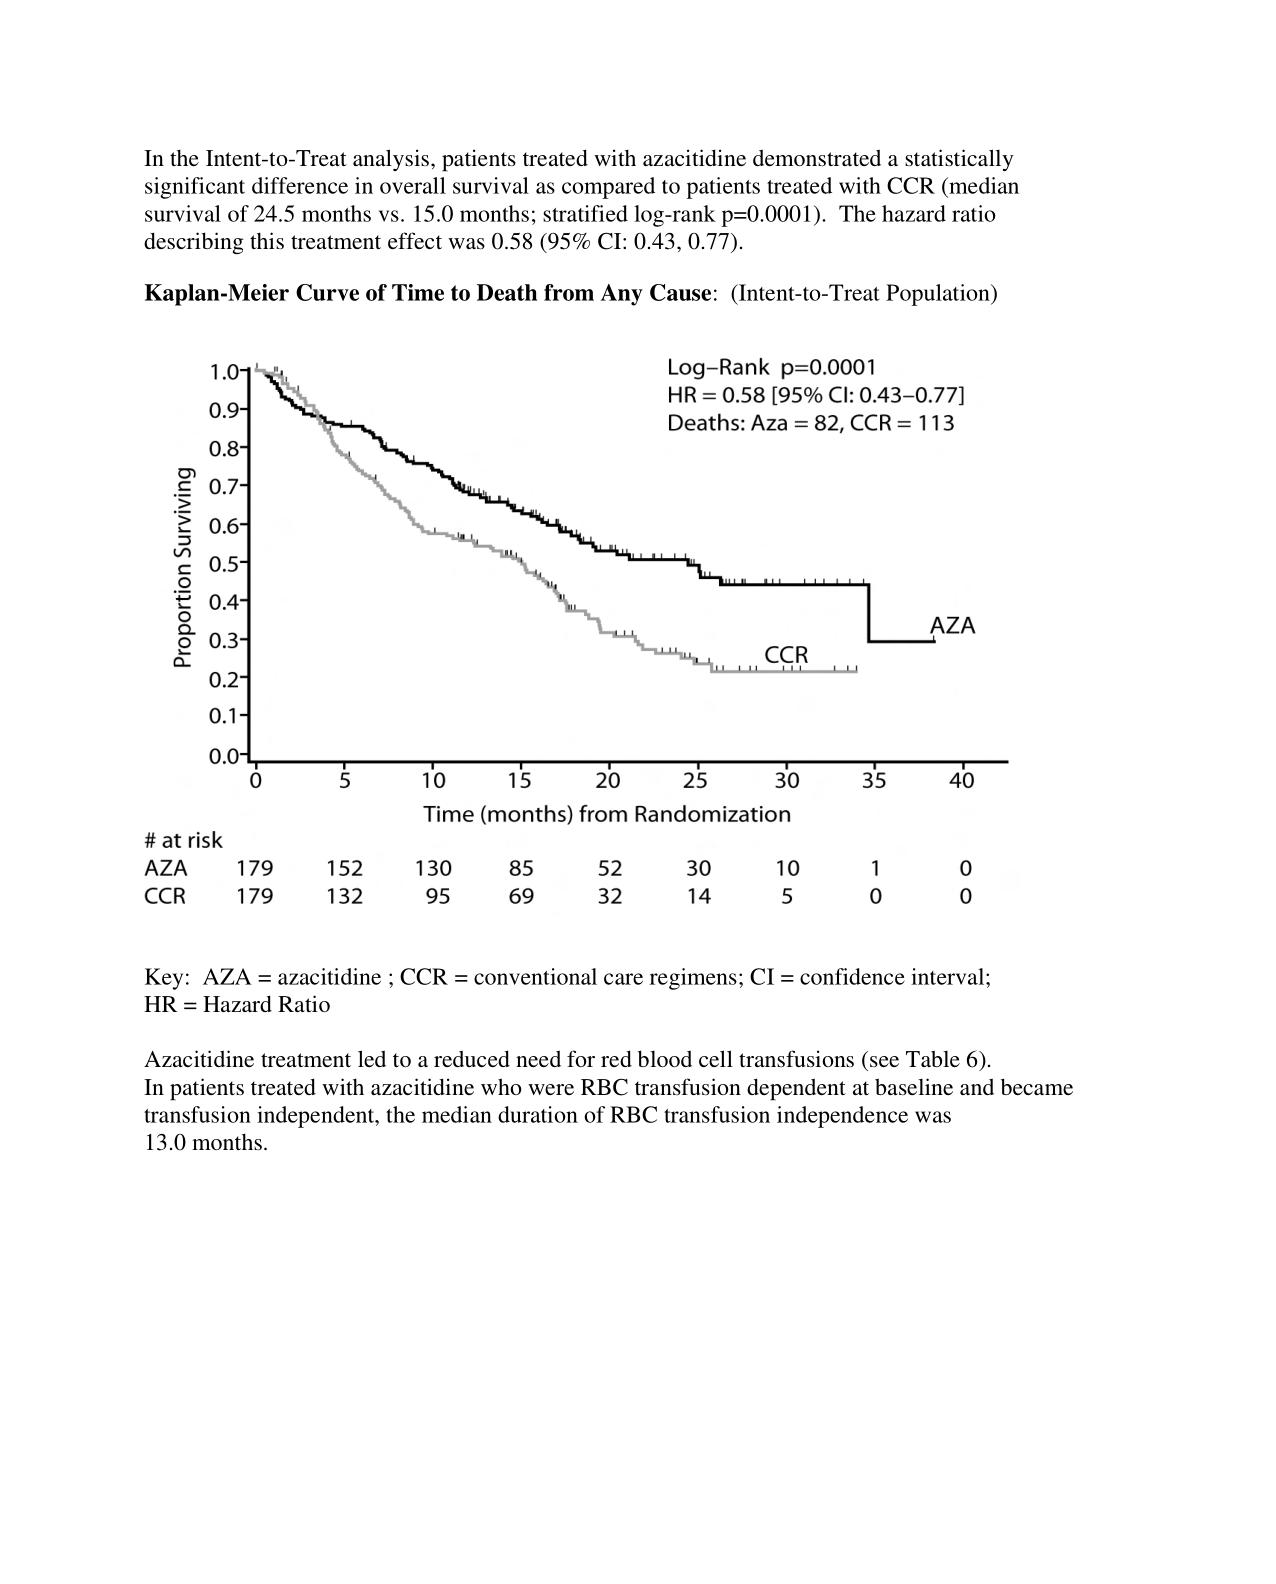nolines: (139, 853, 980, 911)
